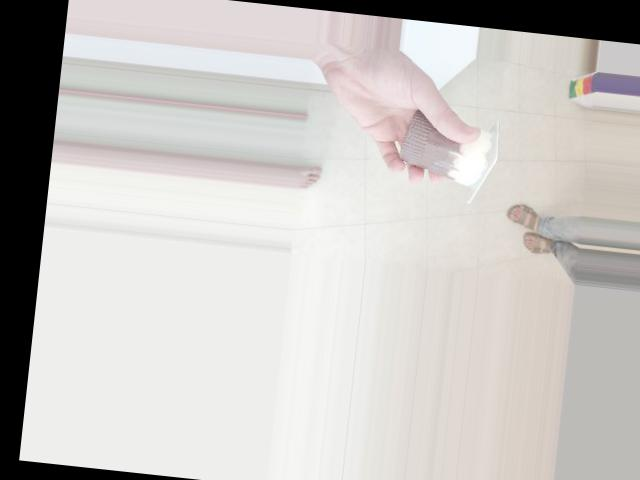milky: (385, 104, 503, 195)
